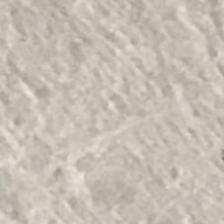Non_Crack: (34, 14, 218, 222)
